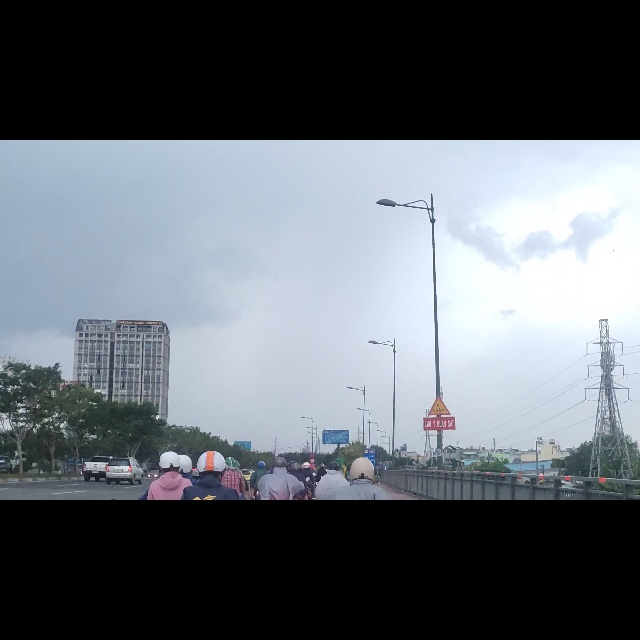bien_nguy_hiem: (427, 452, 451, 491)
